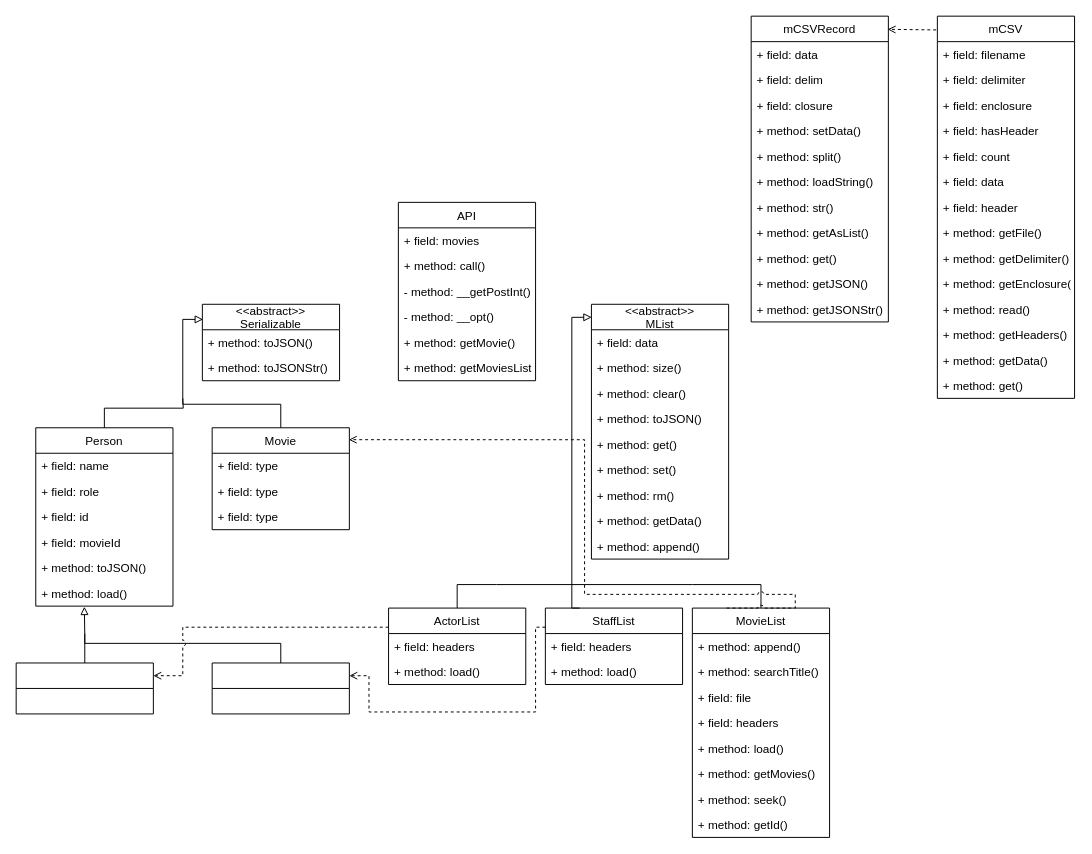
This 1092x854 diagram has some shape labels left out. Here are the shapes that lost their labels. From the top down, the centre of each, then its label:
At [84,688]: "Actor".
At [280,688]: "Staff".
